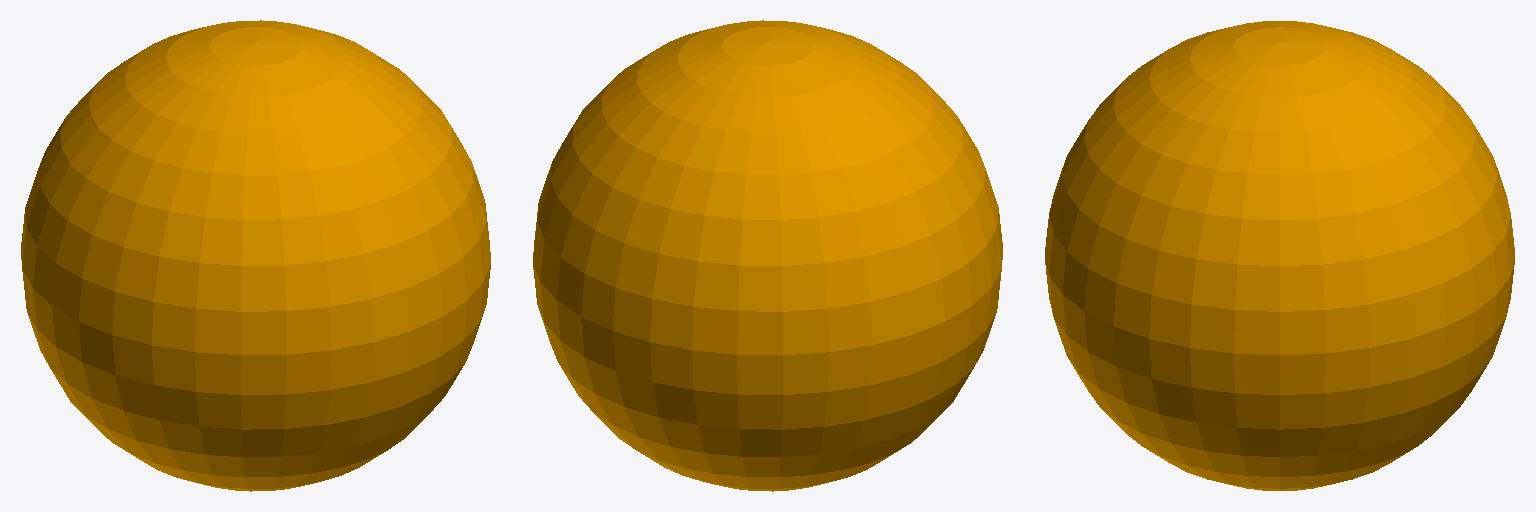
robot.urdf — Orig9:
<?xml version="1.0"?>
<robot name="Orig9">
  <link name="Orig9">
    <inertial>
      <origin xyz="0 0 0" /> 
      <mass value="0.1" />
      <inertia  ixx="1.0" ixy="0.0"  ixz="0.0"  iyy="1.0"  iyz="0.0"  izz="1.0" />
    </inertial>
    <visual>
      <origin xyz="0.00250708 0.0335448 -0.80632129" rpy="0 0 0"/>
      <geometry>
        <sphere radius="0.01"/>
      </geometry>
    </visual>
    <collision>
      <origin xyz="0.00250708 0.0335448 -0.80632129" rpy="0 0 0"/>
      <geometry>
        <sphere radius="0"/>
      </geometry>
    </collision>
  </link>
  <gazebo reference="Orig9">
    <material>Gazebo/Blue</material>
    <turnGravityOff>true</turnGravityOff>
  </gazebo>
</robot>

--- Facts derived from the render (not from the file) ---
Views: 3 orthographic renders of the robot side by side, from view 1: azimuth 30°, elevation 25°; view 2: azimuth 150°, elevation 25°; view 3: azimuth 270°, elevation 25°.
Robot: Orig9 — 1 links, 0 joints (none); root link Orig9; default pose: every joint at zero.
Visible links, largest first — view 1: Orig9; view 2: Orig9; view 3: Orig9.
Boxes of the visible links, x1,y1,x2,y2 form: Orig9: (21, 20, 490, 491); Orig9: (533, 20, 1002, 491); Orig9: (1045, 21, 1514, 490).
Size in the robot's own frame: 0.02 by 0.02 by 0.02 metres.
Geometry: primitives only (box / cylinder / sphere), no mesh files.